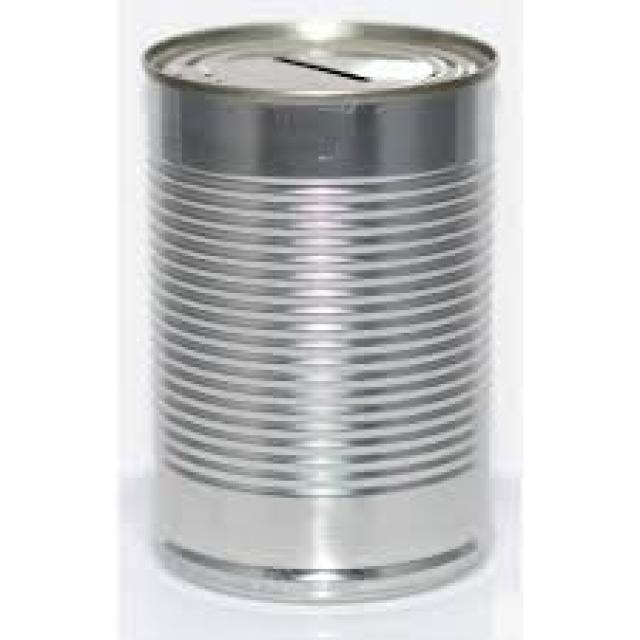metal: (142, 20, 495, 603)
